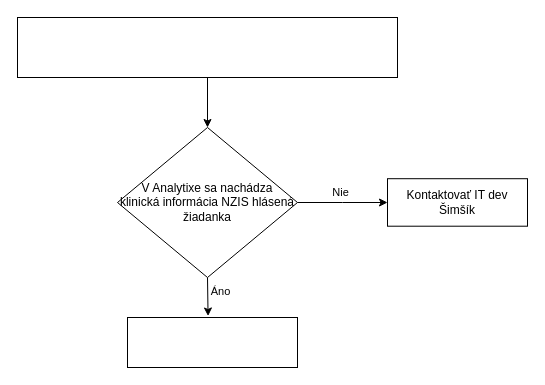
This 545x385 diagram has some shape labels left out. The centre of each missing label's shape, as x and y in pixels:
"Dostali sme hlásenie že v moje eZdravie nieje výsledok" goes at (207,47).
"Kontaktovať IT infra Regeci, Zeleňák" goes at (212,342).
